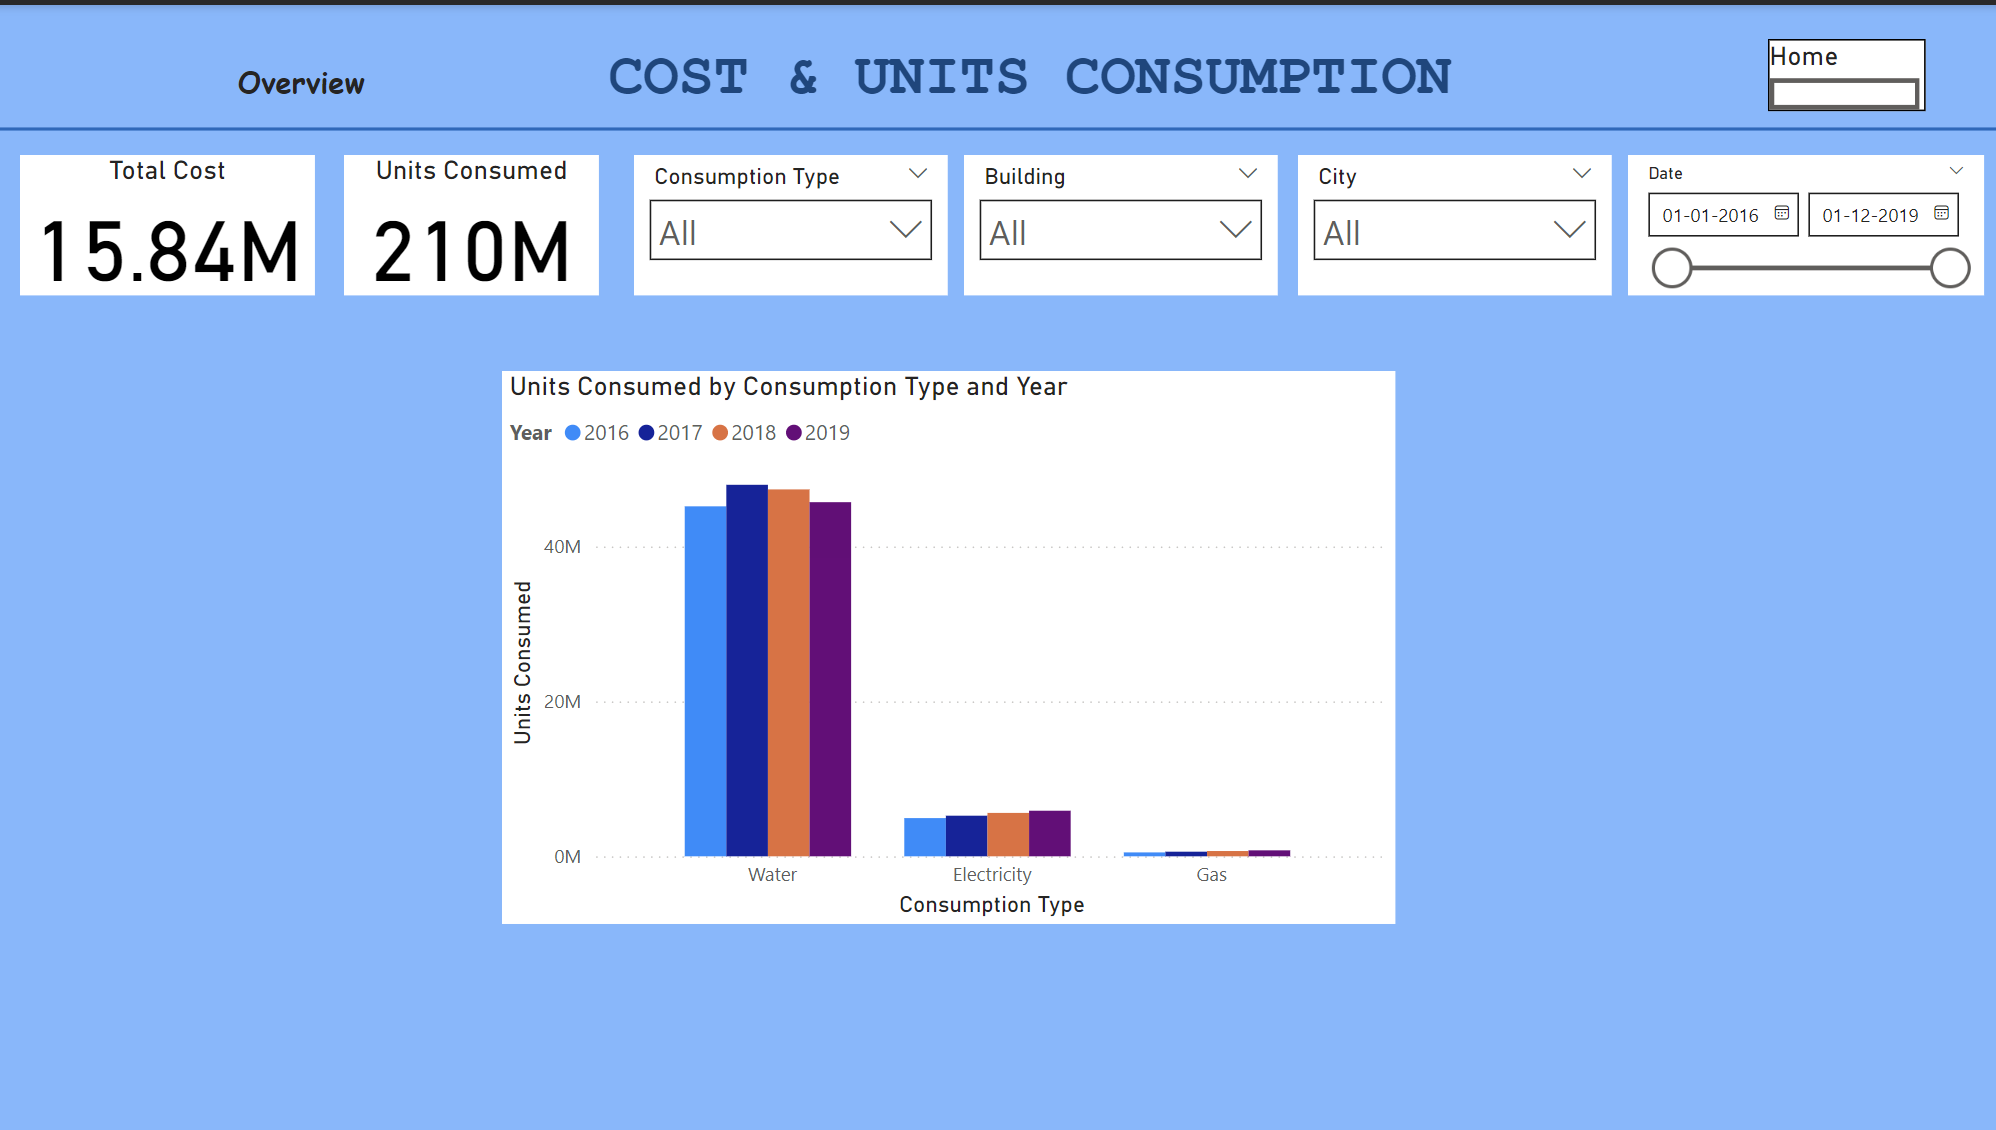

The dashboard page shown, as its layout file describes it:
{"tool":"powerbi","page":{"name":"Page 3","canvas":[1280,720],"ordinal":2},"visuals":[{"type":"shape","box":[0,10.2,1280,137.7],"z":0},{"type":"textbox","box":[343.3,20.9,637.3,58.2],"z":1000},{"type":"textbox","box":[151.7,30.6,100.7,38.2],"z":2000},{"type":"card","title":"Total Cost","fields":{"Values":["Energy Consumptions.Total Cost"]},"box":[17.9,95.5,188.1,89.6],"z":3000},{"type":"card","title":"Units Consumed","fields":{"Values":["Energy Consumptions.Units Consumed"]},"box":[223.9,95.5,162.7,89.6],"z":4000},{"type":"slicer","fields":{"Values":["Energy Consumptions.Consumption Type"]},"box":[409,95.5,200,89.6],"z":5000},{"type":"slicer","fields":{"Values":["Energy Consumptions.Building"]},"box":[619.4,95.5,200,89.6],"z":6000},{"type":"slicer","fields":{"Values":["Building Master.City"]},"box":[832.8,95.5,200,89.6],"z":7000},{"type":"slicer","fields":{"Values":["Energy Consumptions.Date"]},"box":[1043.3,95.5,226.9,89.6],"z":8000},{"type":"clusteredColumnChart","fields":{"Series":["Energy Consumptions.Year"],"Category":["Energy Consumptions.Consumption Type"],"Y":["Energy Consumptions.Units Consumed"]},"box":[325,233.8,569.3,352.7],"z":9000},{"type":"actionButton","title":"Home","box":[1132.2,21.1,100.7,46],"z":9001}]}

Visuals, with their boxes in screenshot pixels (x1, y1, x2, y2), scaled from the page's 1280x720 canvas onto the 1996x1130 screenshot:
shape: rect(0, 16, 1995, 232)
textbox: rect(535, 33, 1529, 124)
textbox: rect(237, 48, 394, 108)
"Total Cost" card: rect(28, 150, 321, 291)
"Units Consumed" card: rect(349, 150, 603, 291)
slicer - Energy Consumptions.Consumption Type: rect(638, 150, 950, 291)
slicer - Energy Consumptions.Building: rect(966, 150, 1278, 291)
slicer - Building Master.City: rect(1299, 150, 1611, 291)
slicer - Energy Consumptions.Date: rect(1627, 150, 1981, 291)
clusteredColumnChart - Energy Consumptions.Year x Energy Consumptions.Consumption Type: rect(507, 367, 1395, 920)
"Home" actionButton: rect(1766, 33, 1923, 105)
